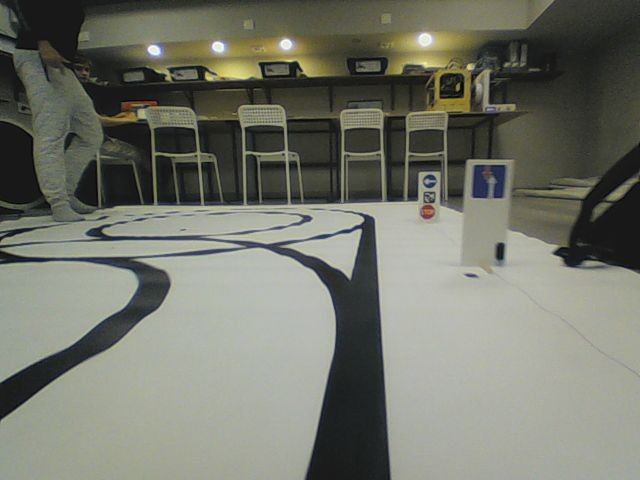Stop: (418, 204, 435, 219)
priority_movement: (471, 163, 507, 200)
